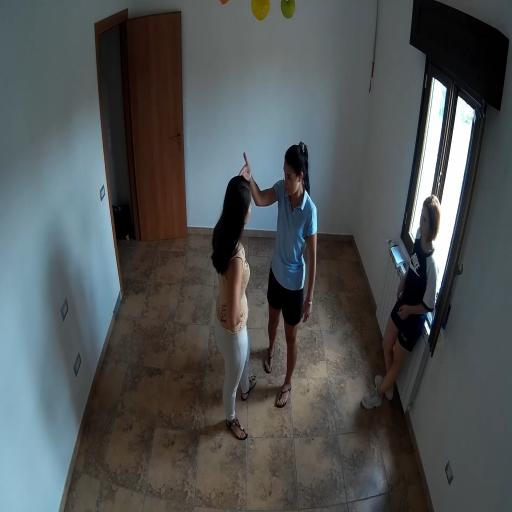nao-violencia: (192, 124, 325, 449)
